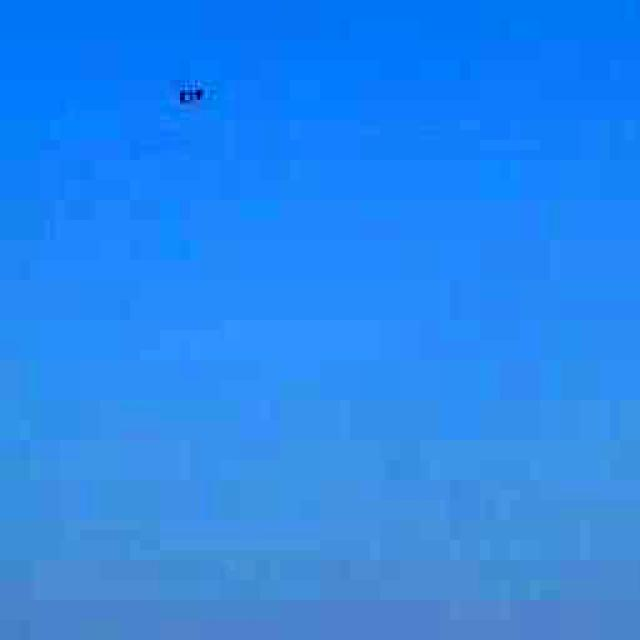bird: (156, 65, 221, 130)
